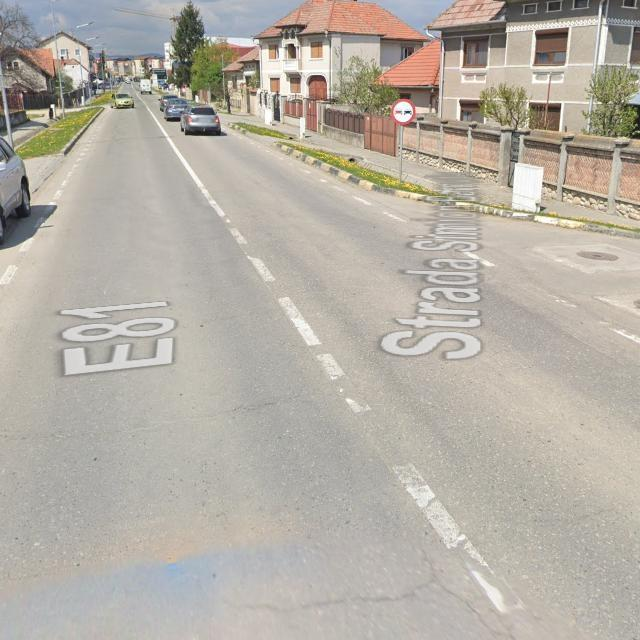forb_overtake: (392, 98, 416, 124)
